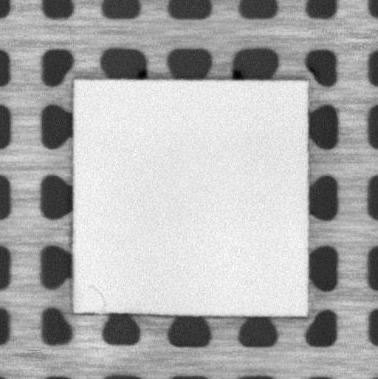DIE_CRACK: (90, 282, 107, 308)
